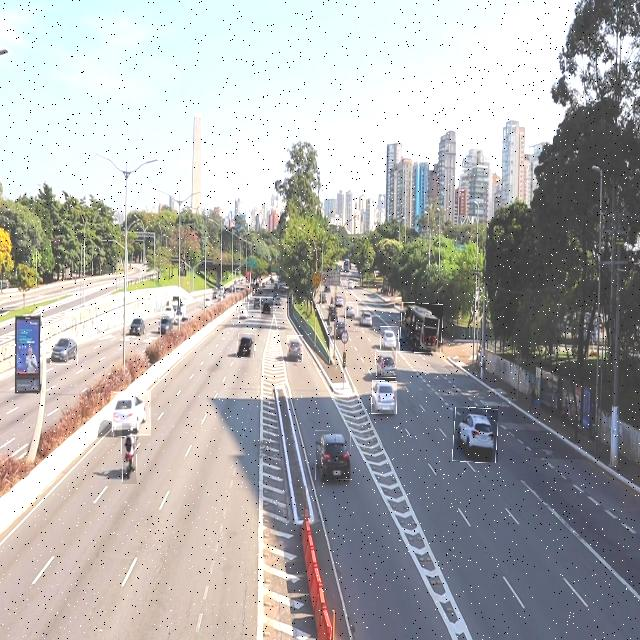Bus: (400, 303, 443, 352)
Car: (453, 408, 498, 462), (315, 430, 351, 480), (111, 391, 151, 436), (51, 333, 78, 365), (372, 381, 397, 414), (376, 352, 397, 378), (128, 314, 148, 338), (381, 326, 399, 351), (287, 335, 303, 362), (238, 334, 255, 358), (358, 309, 374, 328), (160, 315, 173, 336), (260, 297, 273, 318), (238, 302, 249, 323), (346, 302, 358, 321), (333, 292, 345, 308)
Motorcycle: (122, 423, 137, 484)
